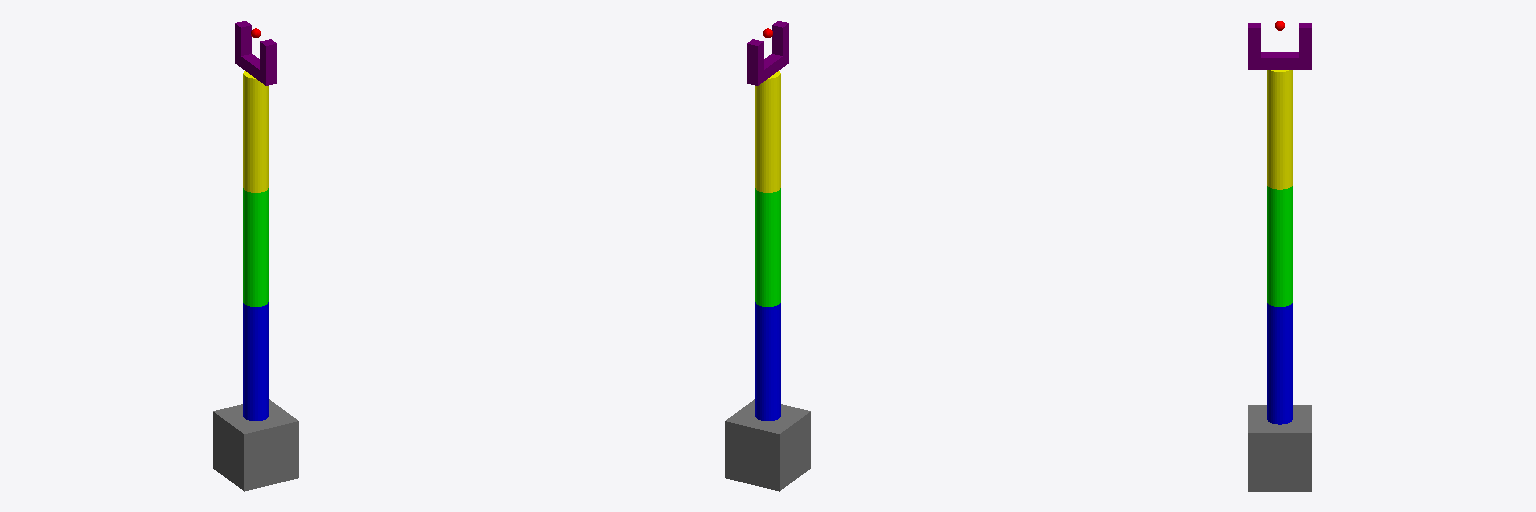
URDF robot description (example_robot):
<?xml version='1.0' encoding='utf-8'?>
<robot name="example_robot">
    <link name="base_link">
        <visual>
            <origin xyz="0 0 0" rpy="0 0 0" />
            <geometry>
                <box size="0.25 0.25 0.25" />
            </geometry>
            <material name="gray">
                <color rgba="0.5 0.5 0.5 1" />
            </material>
        </visual>
    </link>
    <joint name="joint1" type="revolute">
        <parent link="base_link" />
        <child link="link1" />
        <axis xyz="1 0 0" />
        <origin xyz="0 0 0.125" rpy="0 0 0" />
        <limit lower="-1.57" upper="1.57" effort="10" velocity="1" />
    </joint>
    <link name="link1">
        <visual>
            <origin xyz="0 0 0.25" rpy="0 0 0" />
            <geometry>
                <cylinder length="0.5" radius="0.05" />
            </geometry>
            <material name="blue">
                <color rgba="0 0 1 1" />
            </material>
        </visual>
        <collision>
            <origin xyz="0 0 0.25" rpy="0 0 0" />
            <geometry>
                <cylinder length="0.5" radius="0.05" />
            </geometry>
        </collision>
    </link>
    <joint name="joint2" type="revolute">
        <parent link="link1" />
        <child link="link2" />
        <axis xyz="1 0 0" />
        <origin xyz="0 0 0.5" rpy="0 0 0" />
        <limit lower="-1.57" upper="1.57" effort="10" velocity="1" />
    </joint>
    <link name="link2">
        <visual>
            <origin xyz="0 0 0.25" rpy="0 0 0" />
            <geometry>
                <cylinder length="0.5" radius="0.05" />
            </geometry>
            <material name="green">
                <color rgba="0 1 0 1" />
            </material>
        </visual>
        <collision>
            <origin xyz="0 0 0.25" rpy="0 0 0" />
            <geometry>
                <cylinder length="0.5" radius="0.05" />
            </geometry>
        </collision>
    </link>
    <joint name="joint3" type="revolute">
        <parent link="link2" />
        <child link="link3" />
        <axis xyz="1 0 0" />
        <origin xyz="0 0 0.5" rpy="0 0 0" />
        <limit lower="-1.57" upper="1.57" effort="10" velocity="1" />
    </joint>
    <link name="link3">
        <visual>
            <origin xyz="0 0 0.25" rpy="0 0 0" />
            <geometry>
                <cylinder length="0.5" radius="0.05" />
            </geometry>
            <material name="yellow">
                <color rgba="1 1 0 1" />
            </material>
        </visual>
        <collision>
            <origin xyz="0 0 0.25" rpy="0 0 0" />
            <geometry>
                <cylinder length="0.5" radius="0.05" />
            </geometry>
        </collision>
    </link>
    <joint name="joint4" type="fixed">
        <parent link="link3" />
        <child link="wrist" />
        <axis xyz="0 0 1" />
        <origin xyz="0 0 0.525" rpy="0 0 0" />
    </joint>
    <link name="wrist">
        <visual>
            <origin xyz="0 0 0" rpy="0 0 0" />
            <geometry>
                <box size="0.05 0.25 0.05" />
            </geometry>
            <material name="purple">
                <color rgba="0.5 0 0.5 1" />
            </material>
        </visual>
        <collision>
            <origin xyz="0 0 0" rpy="0 0 0" />
            <geometry>
                <box size="0.05 0.25 0.05" />
            </geometry>
        </collision>
    </link>
    <joint name="joint5" type="fixed">
        <parent link="wrist" />
        <child link="left_finger" />
        <axis xyz="0 0 1" />
        <origin xyz="0 -0.1 0.075" rpy="0 0 0" />
    </joint>
    <link name="left_finger">
        <visual>
            <origin xyz="0 0 0" rpy="0 0 0" />
            <geometry>
                <box size="0.05 0.05 0.15" />
            </geometry>
            <material name="purple">
                <color rgba="0.5 0 0.5 1" />
            </material>
        </visual>
        <collision>
            <origin xyz="0 0 0" rpy="0 0 0" />
            <geometry>
                <box size="0.05 0.05 0.15" />
            </geometry>
        </collision>
    </link>
    <joint name="joint6" type="fixed">
        <parent link="wrist" />
        <child link="right_finger" />
        <axis xyz="0 0 1" />
        <origin xyz="0 0.1 0.075" rpy="0 0 0" />
    </joint>
    <link name="right_finger">
        <visual>
            <origin xyz="0 0 0" rpy="0 0 0" />
            <geometry>
                <box size="0.05 0.05 0.15" />
            </geometry>
            <material name="purple">
                <color rgba="0.5 0 0.5 1" />
            </material>
        </visual>
        <collision>
            <origin xyz="0 0 0" rpy="0 0 0" />
            <geometry>
                <box size="0.05 0.05 0.15" />
            </geometry>
        </collision>
    </link>
    <link name="gripper_center">
        <visual>
            <origin xyz="0 0 0" rpy="0 0 0" />
            <geometry>
                <sphere radius="0.02" />
            </geometry>
            <material name="red">
                <color rgba="1 0 0 1" />
            </material>
        </visual>
    </link>
    <joint name="joint7" type="fixed">
        <parent link="wrist" />
        <child link="gripper_center" />
        <axis xyz="0 0 1" />
        <origin xyz="0 0 0.15" rpy="0 0 0" />
    </joint>
</robot>

--- Render facts (derived) ---
Views: 3 orthographic renders of the robot side by side, from view 1: azimuth 30°, elevation 25°; view 2: azimuth 150°, elevation 25°; view 3: azimuth 270°, elevation 25°.
Model example_robot with 8 links and 7 joints (3 revolute, 4 fixed), rooted at base_link, posed every joint at zero.
Visible links, largest first — view 1: base_link, link1, link2, link3, wrist, left_finger, right_finger; view 2: base_link, link1, link2, link3, wrist, right_finger, left_finger; view 3: base_link, link3, link1, link2, wrist.
Boxes of the visible links, x1,y1,x2,y2 form: base_link: [213, 399, 298, 491]; link1: [243, 302, 268, 420]; link2: [243, 188, 268, 306]; link3: [243, 71, 268, 192]; wrist: [235, 52, 276, 85]; left_finger: [260, 39, 276, 78]; right_finger: [235, 21, 251, 55]; base_link: [725, 399, 810, 491]; link1: [755, 302, 780, 420]; link2: [755, 188, 780, 306]; link3: [755, 71, 780, 192]; wrist: [747, 52, 788, 85]; right_finger: [747, 39, 763, 79]; left_finger: [772, 21, 788, 55]; base_link: [1248, 405, 1311, 491]; link3: [1267, 70, 1292, 189]; link1: [1267, 303, 1292, 424]; link2: [1267, 186, 1292, 306]; wrist: [1248, 52, 1311, 69].
Bounding box of the posed robot: 0.25 × 0.25 × 1.95 m (x, y, z).
Geometry: primitives only (box / cylinder / sphere), no mesh files.